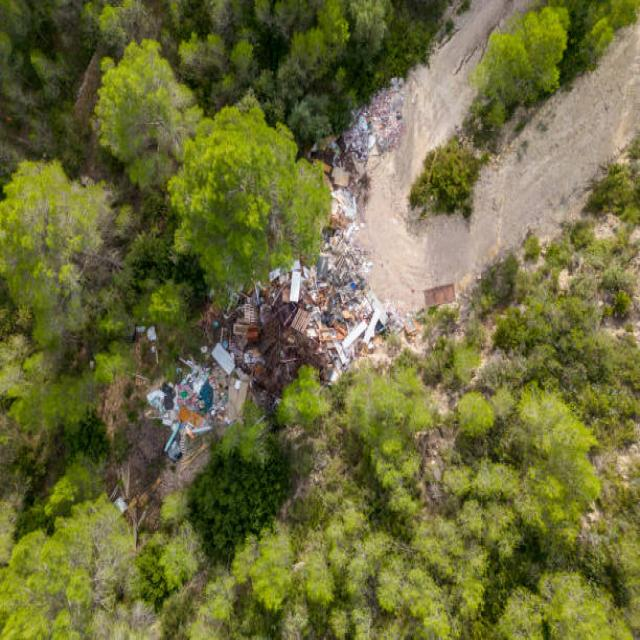plastic: (155, 382, 234, 427), (343, 284, 366, 300)
